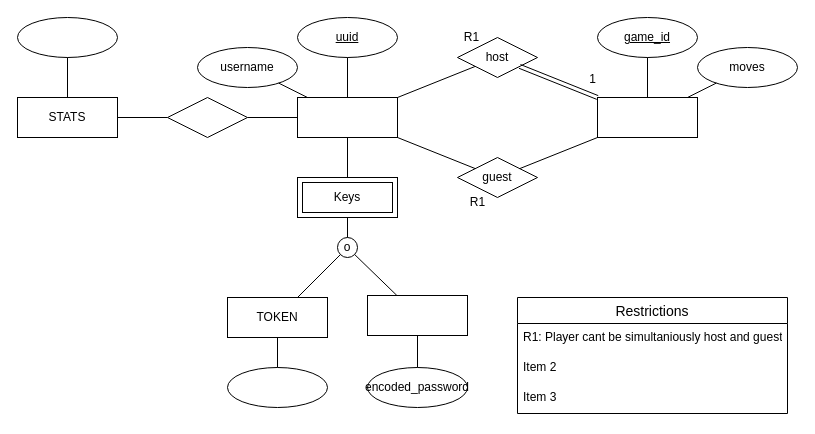
Some shapes in this 815 by 434 pixel diagram are drawn without their labels. The centre of each missing label's shape, as x and y in pixels:
encoded_token: (277,387)
GAME: (647,117)
has: (207,117)
PASSWORD: (417,315)
points: (67,37)
USER: (347,117)
